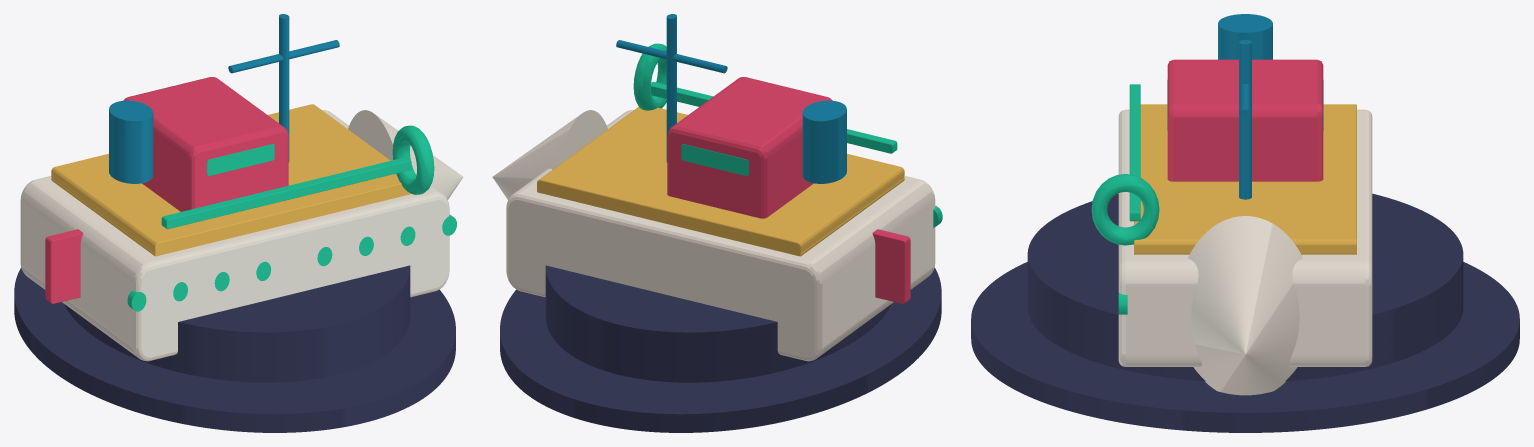
The model's file is 1343_城市运转图鉴_液化天然气船.glb.
3 renders of one model, left to right at view 1: azimuth 30°, elevation 25°; view 2: azimuth 150°, elevation 25°; view 3: azimuth 270°, elevation 25°, orthographic. The views are drawn at different scales.
Parts seen in each view (by area): view 1: card_1343; view 2: card_1343; view 3: card_1343.
Part boxes in pixels (x1,y1,x2,y2): card_1343: (14, 14, 463, 432); card_1343: (492, 14, 942, 432); card_1343: (971, 14, 1519, 432).
Bounding box in the file's own units: 1.44 × 1 × 1.54.
